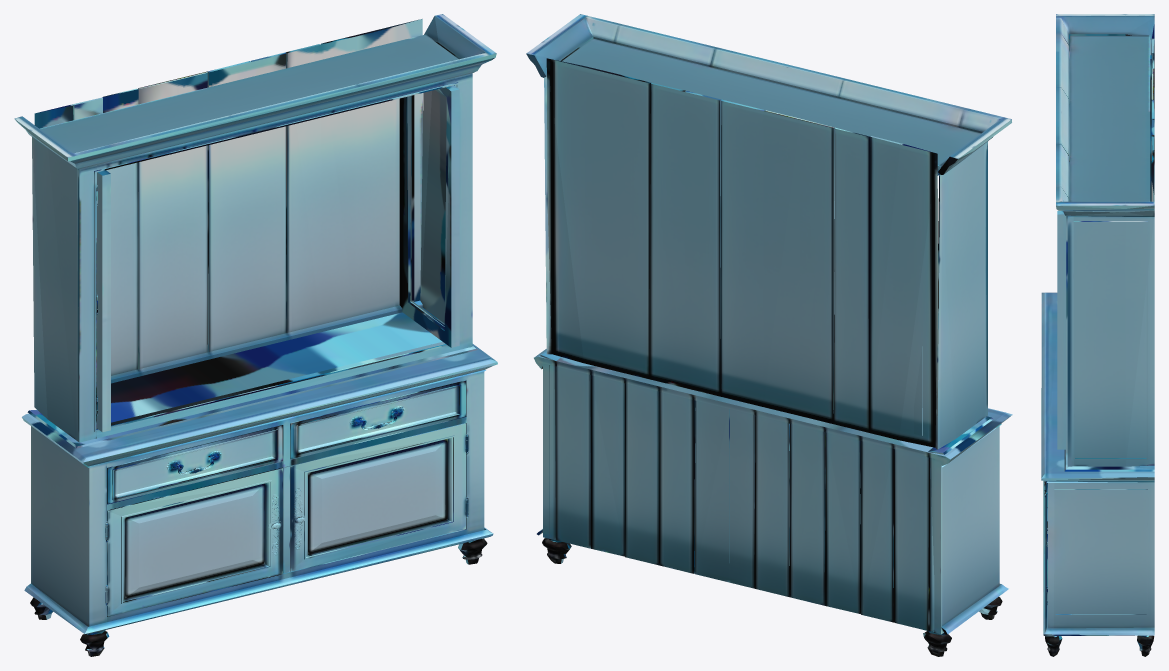
File: edited_mesh.glb
3 views of the same model, side by side, from view 1: azimuth 30°, elevation 25°; view 2: azimuth 150°, elevation 25°; view 3: azimuth 270°, elevation 25° (orthographic). The views are drawn at different scales.
Visible parts, largest first — view 1: solid_001_wire; view 2: solid_001_wire; view 3: solid_001_wire.
Part boxes in pixels (x1,y1,x2,y2): solid_001_wire: [14, 14, 497, 656]; solid_001_wire: [526, 14, 1012, 656]; solid_001_wire: [1041, 14, 1154, 656].
Bounding box in the file's own units: 1.23 × 1.38 × 0.3083.
Materials: 1 (1 with a texture image).
